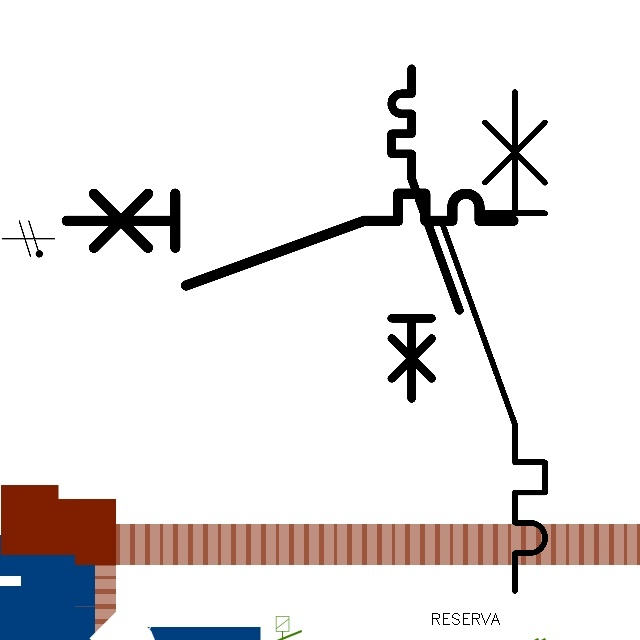interruptor_termomagnetico: (430, 79, 558, 604), (55, 182, 525, 297), (383, 60, 468, 407)
